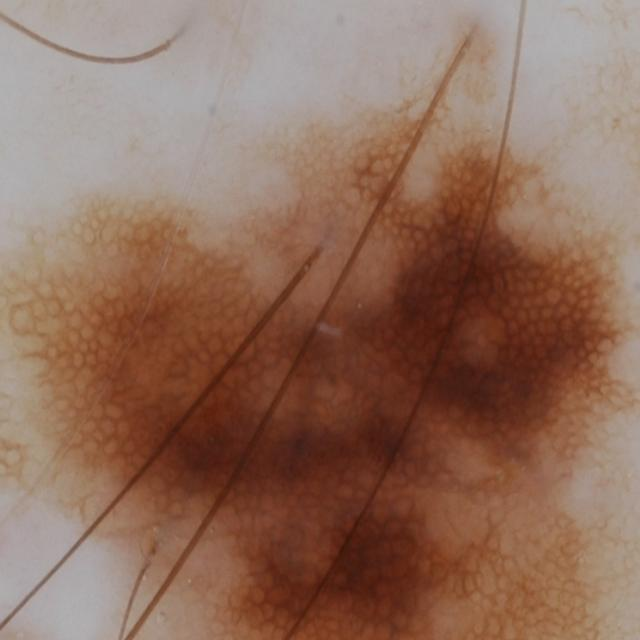Melanoma: (0, 114, 640, 640)
